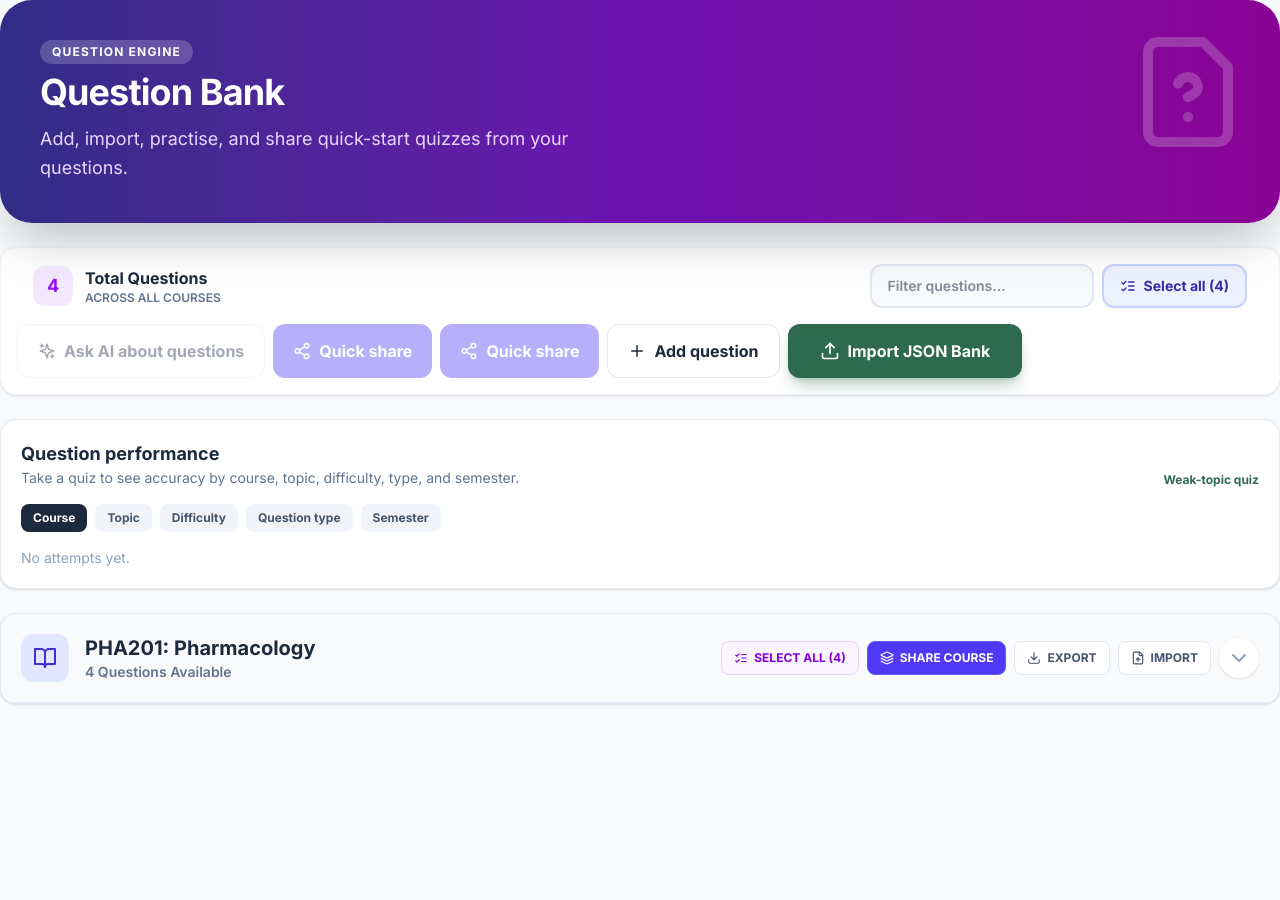
Test case: Select all follows the filter › selects a whole course in one click
The image size is (1280, 900).
Click the button with test id "select-all-course-c1".
click(790, 658)  # box [721, 640, 859, 674]
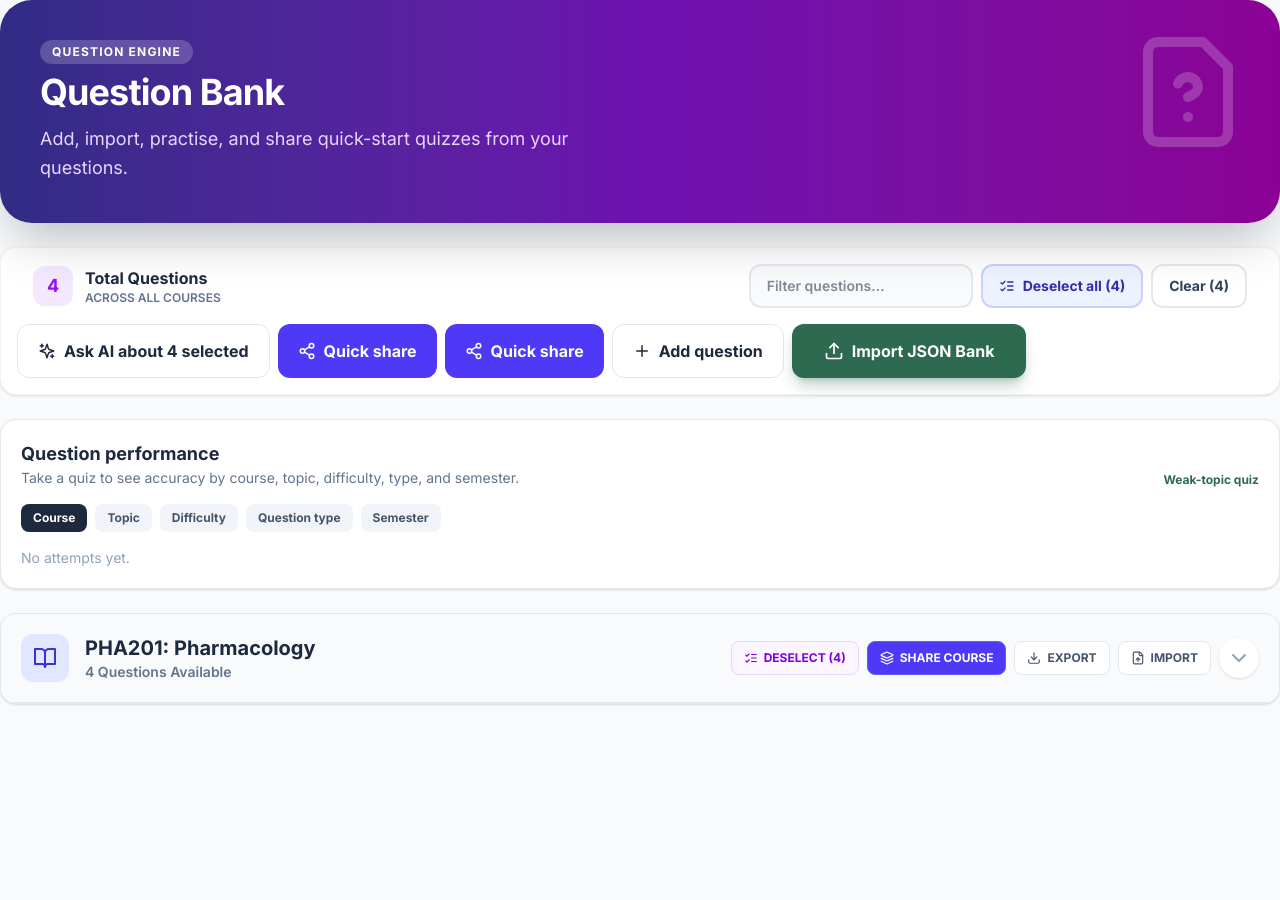
Expected: the text "Ask AI about 4 selected" is shown, [64, 338, 248, 362]
